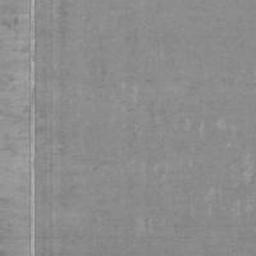Welding line: (28, 0, 36, 255)
